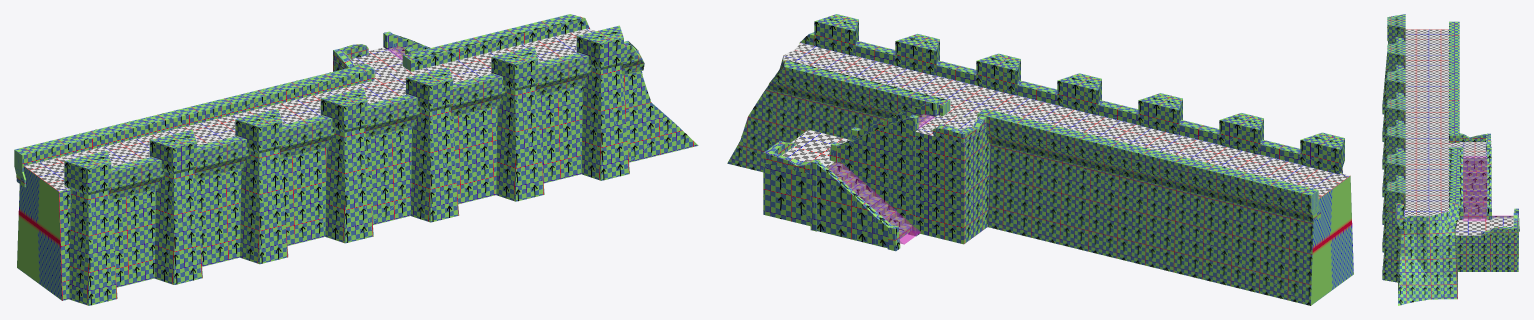
Rendered from wall_section1.obj.
3 views of the same model, side by side, from view 1: azimuth 30°, elevation 25°; view 2: azimuth 150°, elevation 25°; view 3: azimuth 270°, elevation 25° (orthographic). The views are drawn at different scales.
Parts seen in each view (by area): view 1: Cube.008; view 2: Cube.008; view 3: Cube.008.
Part boxes in pixels (<box>): Cube.008: <box>14,14,698,305</box>; Cube.008: <box>727,14,1353,305</box>; Cube.008: <box>1382,14,1519,305</box>.
Size of the model in its own units: 95.28 by 19.66 by 26.79.
